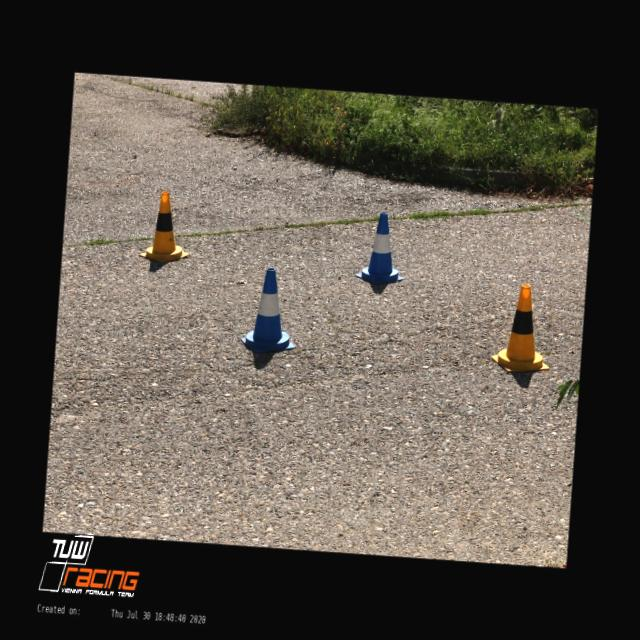blue_cone: (240, 266, 301, 356), (352, 210, 408, 287)
yellow_cone: (490, 281, 555, 374), (138, 188, 192, 264)
